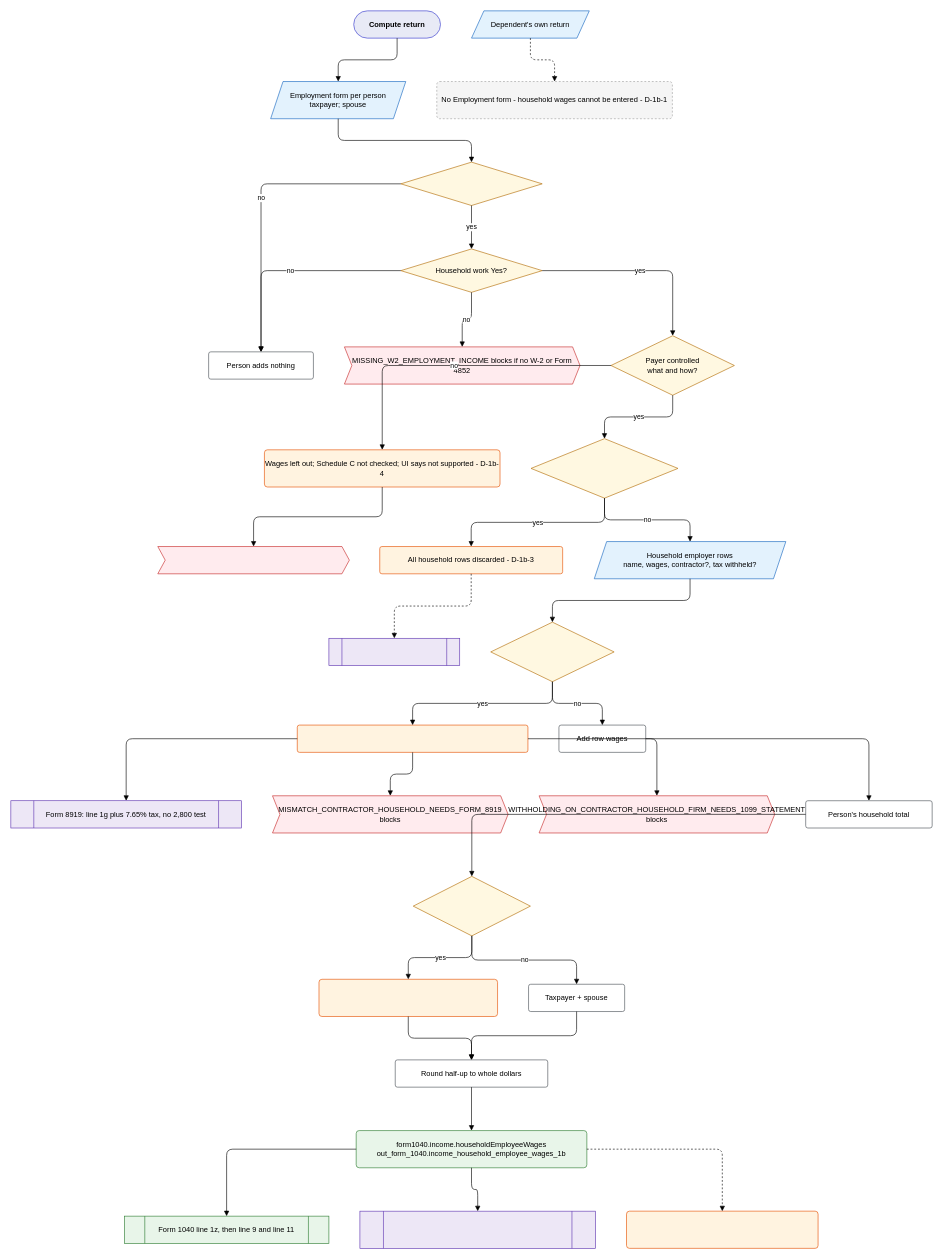
This 943x1259 diagram has some shape labels left out. Each missing label, with the centre of its shape:
"EIC, Schedule 8812, SS worksheet, dependent std deduction" belongs at (x=477, y=1229).
"Filer's own total only no community-property split - D-1b-7" belongs at (x=408, y=997).
"Form 1040 line 1a via W-2" belongs at (x=394, y=652).
"HOUSEHOLD_WORK_SELF_EMPLOYMENT advisory" belongs at (x=253, y=560).
"Married filing separately?" belongs at (x=471, y=906).
"Not in Form 2441 earned income - D-1b-5 Not in IRA compensation - D-1b-6" belongs at (x=722, y=1229).
"Received a W-2 for this household work?" belongs at (x=604, y=468).
"Row marked paid as a contractor?" belongs at (x=552, y=652).
"Row skipped; wages must go on Form 8919 - D-1b-2" belongs at (x=412, y=738).
"Wages answered Yes?" belongs at (x=471, y=184).
